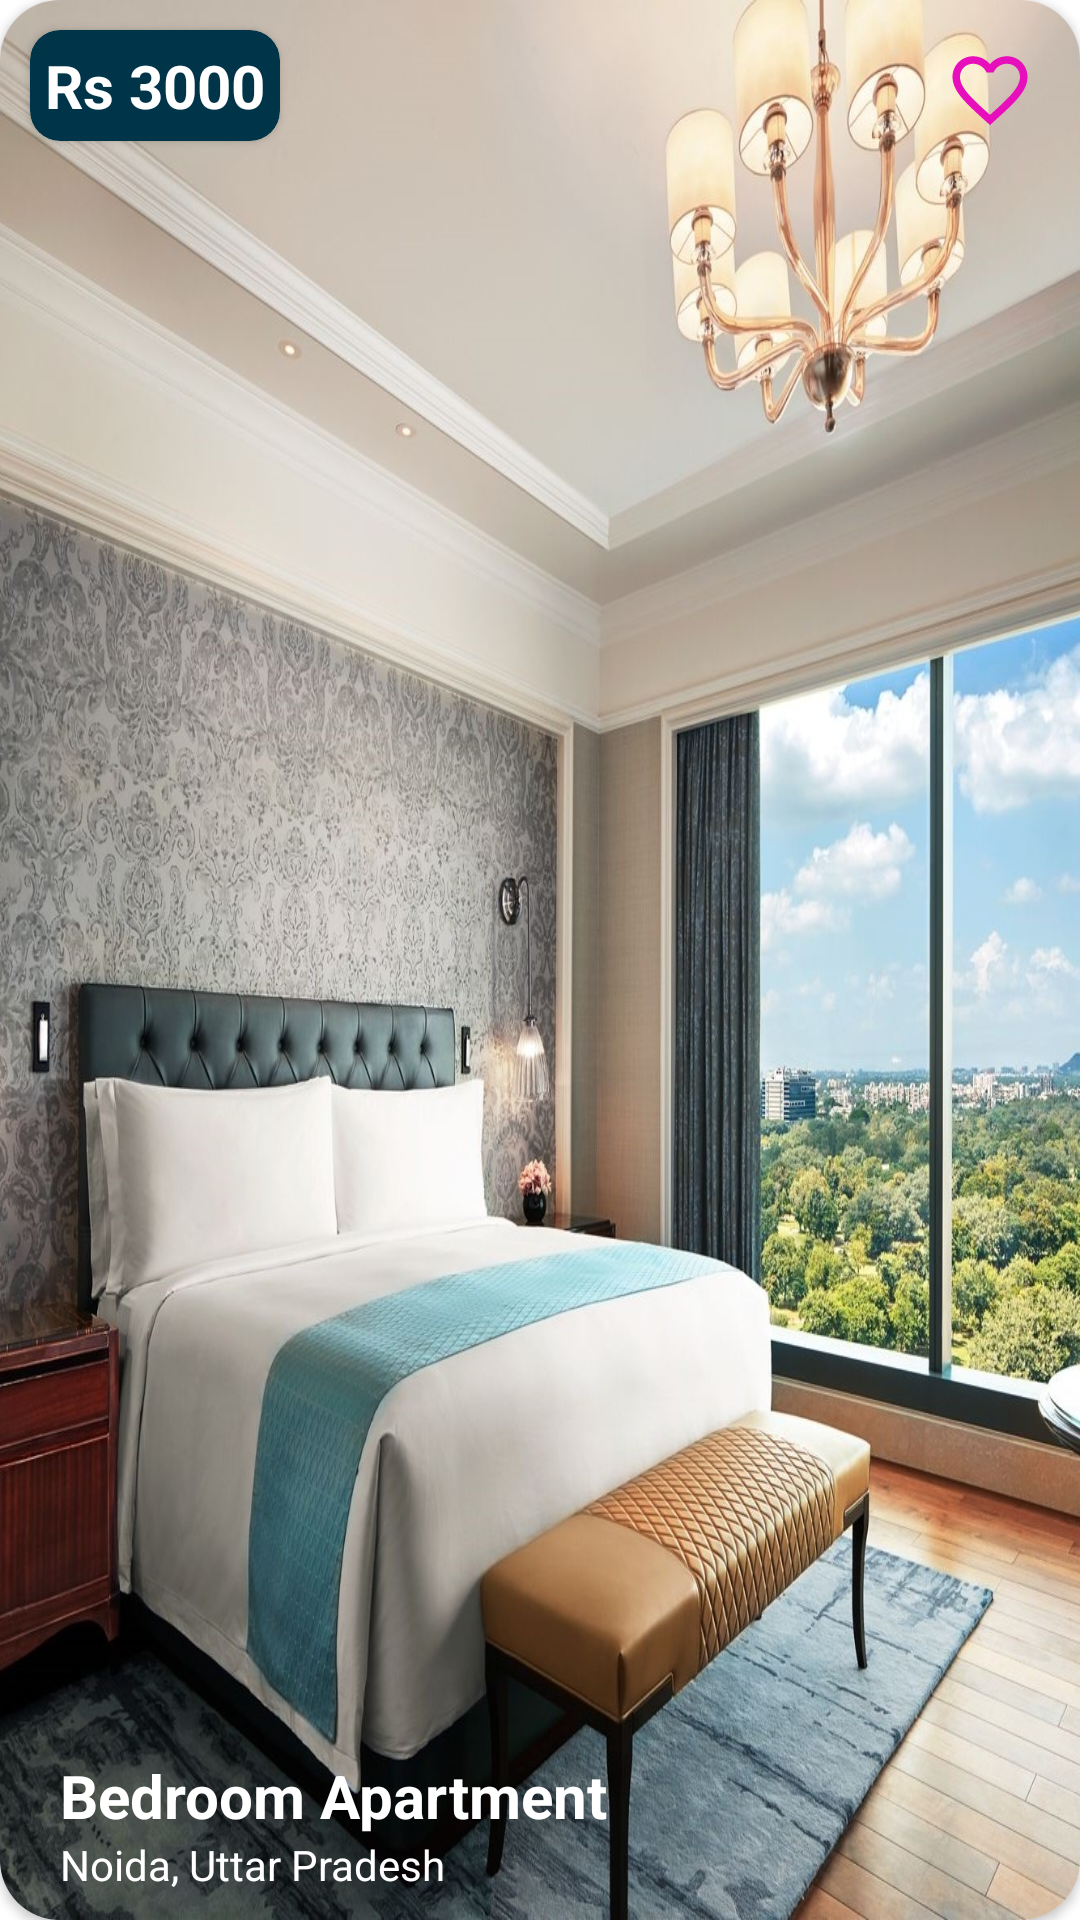

Icons on this 1080x1920 Android screen, each with the point to tap as [x,y]:
favorite: [990,90]
